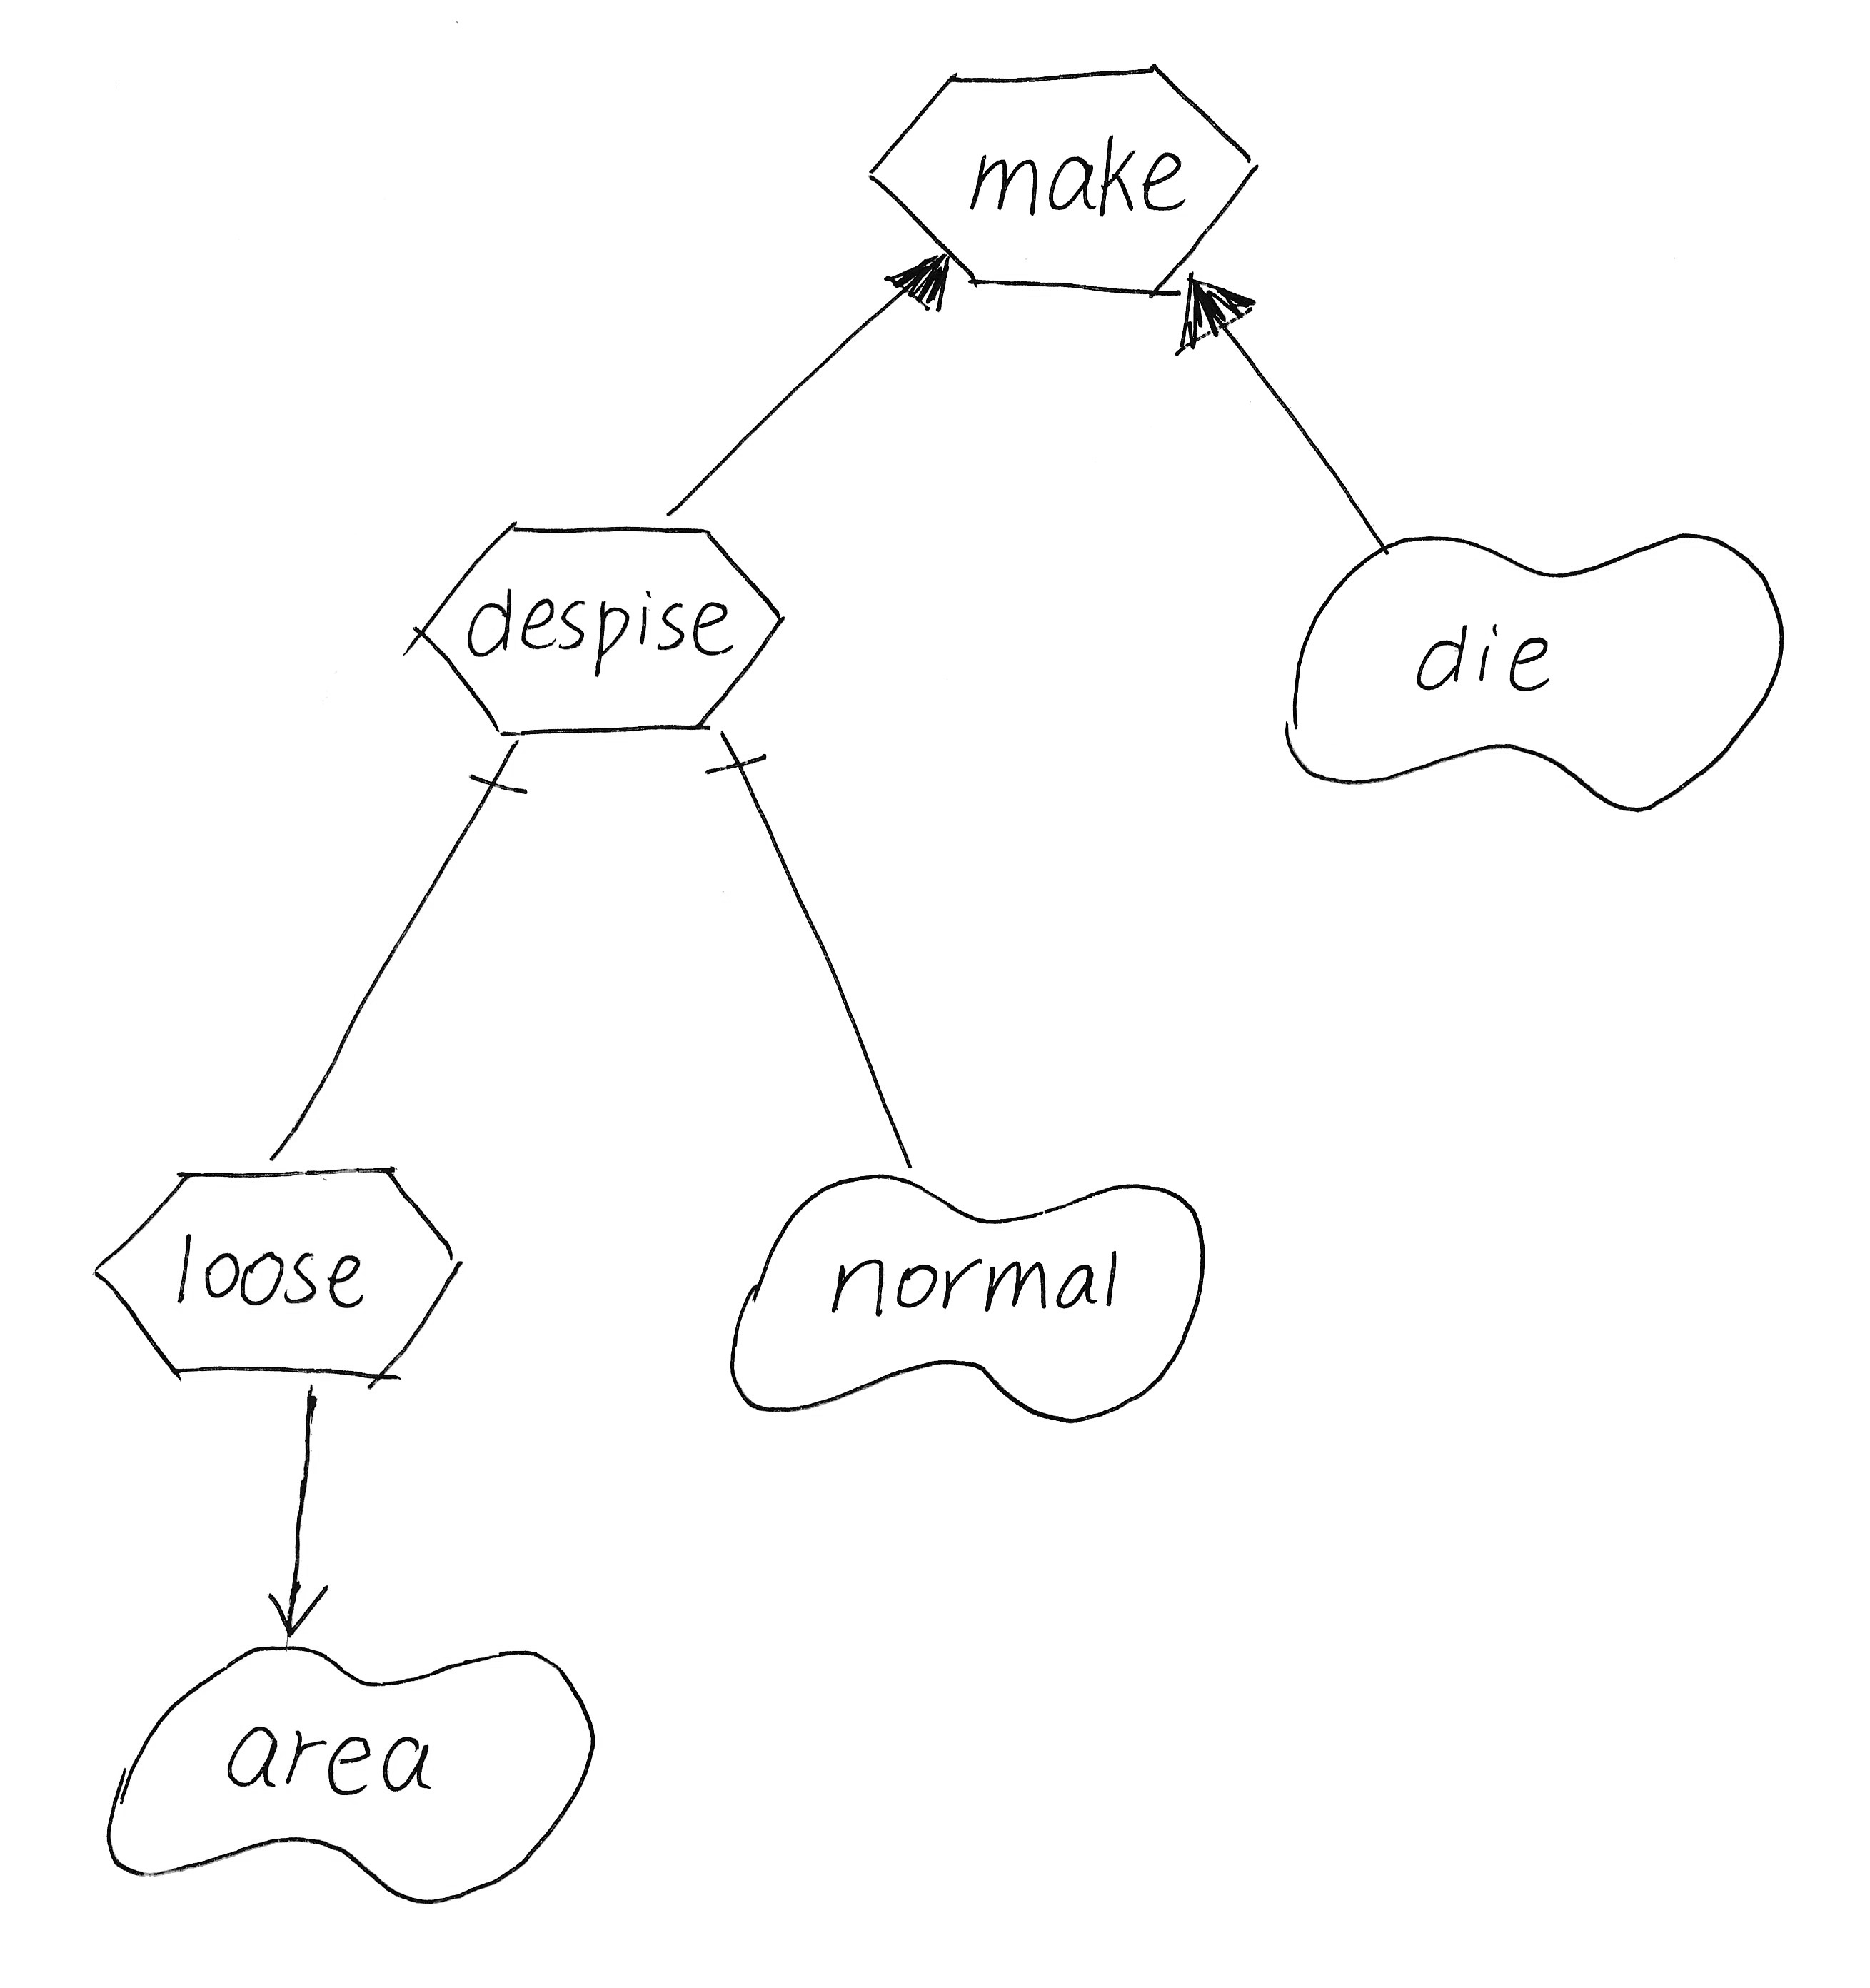and: (467, 722, 540, 816), (701, 715, 775, 796)
arrow: (264, 1573, 339, 1645)
or: (1162, 269, 1269, 364), (873, 241, 974, 320)
quality: (1262, 515, 1807, 824), (84, 1622, 624, 1923), (698, 1150, 1229, 1436)
task: (851, 46, 1281, 315), (74, 1144, 485, 1403), (387, 506, 803, 756)
